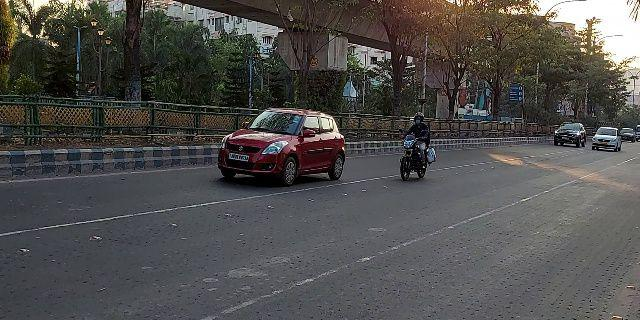Car: (214, 105, 347, 188), (552, 120, 587, 150), (590, 124, 623, 154)
Motorbike: (394, 108, 437, 185)
